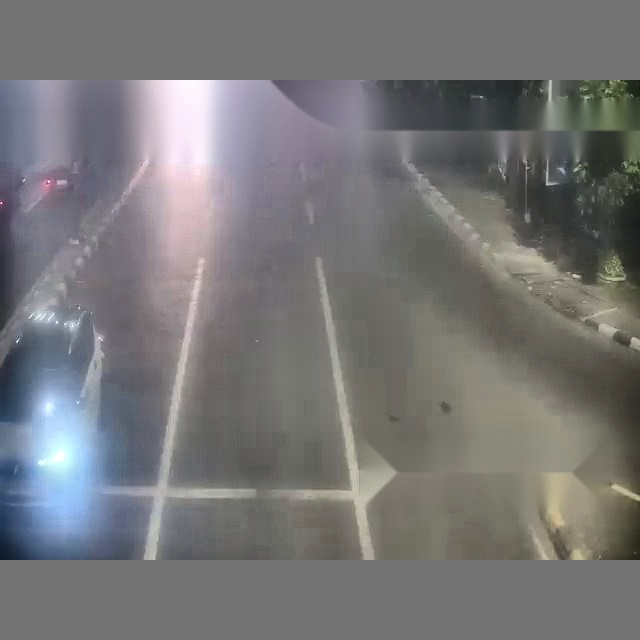Mobil: (0, 305, 103, 557)
Truk: (195, 65, 639, 556)
